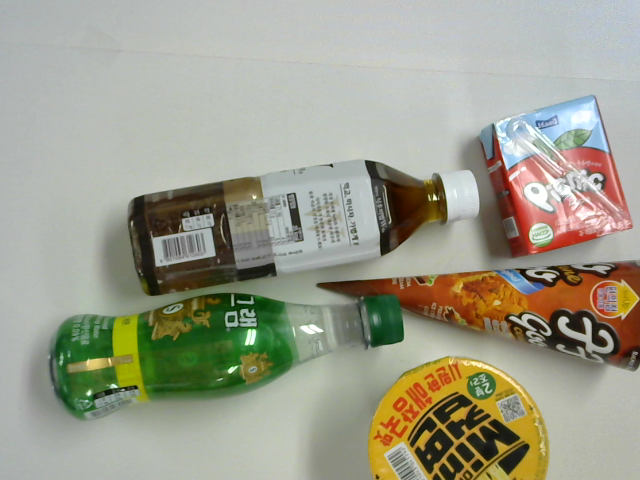GooGoo_Cone_CVS: (314, 257, 640, 371)
Hejangmini: (366, 357, 551, 480)
Picnic_Apple: (478, 94, 630, 261)
Post-meal_recipe_W_tea_500ml: (130, 159, 480, 295)
Seagram_Lemon_Carbonated_Water: (50, 292, 404, 417)
